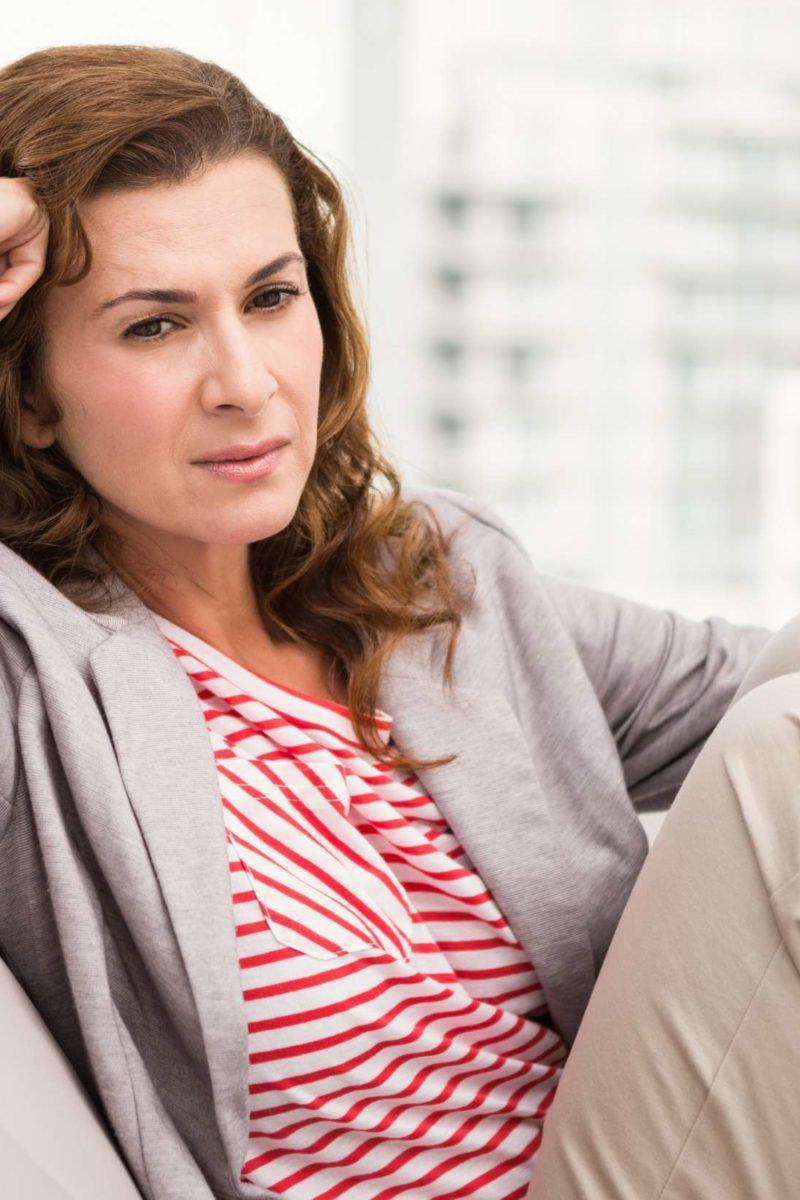Sober: (83, 188, 323, 536)
